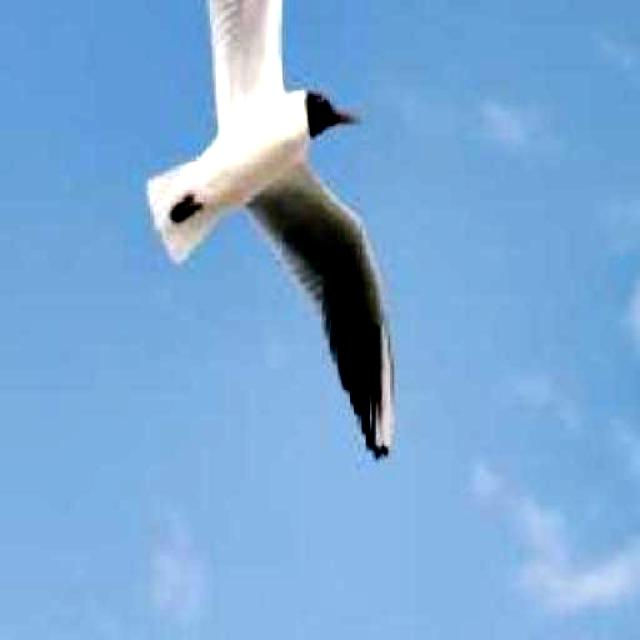airplane: (145, 0, 398, 462)
